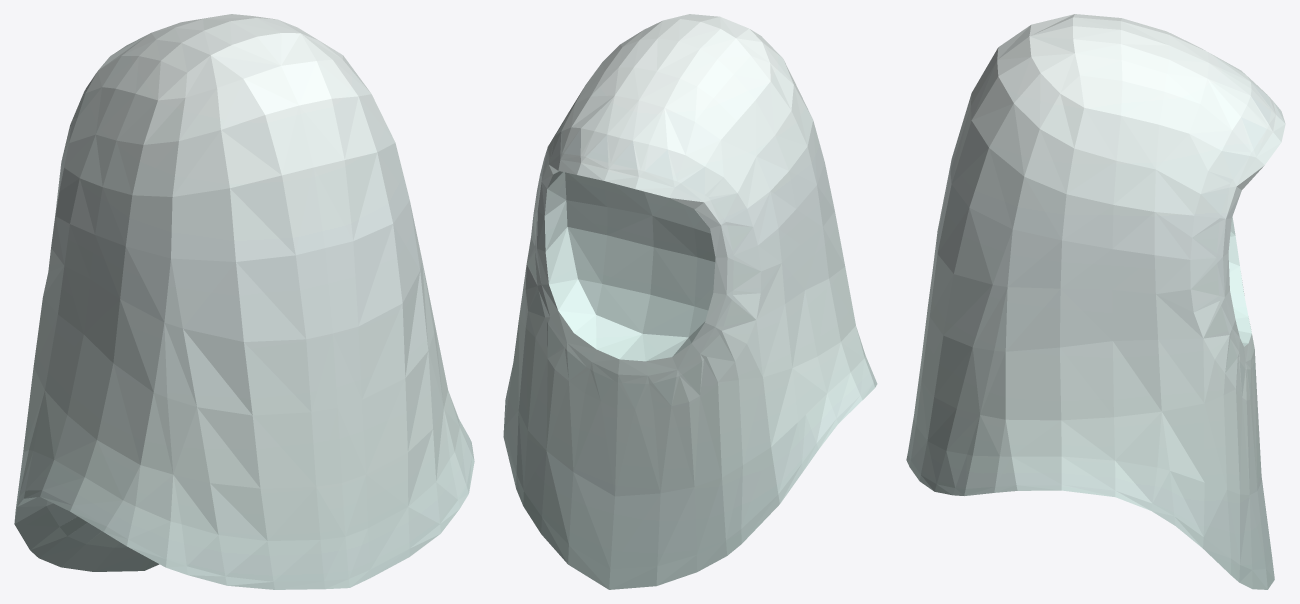
The model's file is CharSkyKid_Hair_ElderNight.glb.
3 views of the same model, side by side, from view 1: azimuth 30°, elevation 25°; view 2: azimuth 150°, elevation 25°; view 3: azimuth 270°, elevation 25° (orthographic). The views are drawn at different scales.
Visible parts, largest first — view 1: CharSkyKid_Hair_ElderNight; view 2: CharSkyKid_Hair_ElderNight; view 3: CharSkyKid_Hair_ElderNight.
Boxes of the visible parts, box(x1,y1,x2,y2) form: CharSkyKid_Hair_ElderNight: box(14, 14, 474, 589); CharSkyKid_Hair_ElderNight: box(503, 14, 877, 589); CharSkyKid_Hair_ElderNight: box(906, 14, 1285, 589).
Bounding box in the file's own units: 3.64 × 5.56 × 3.45.
Materials: 1 (1 with a texture image).
